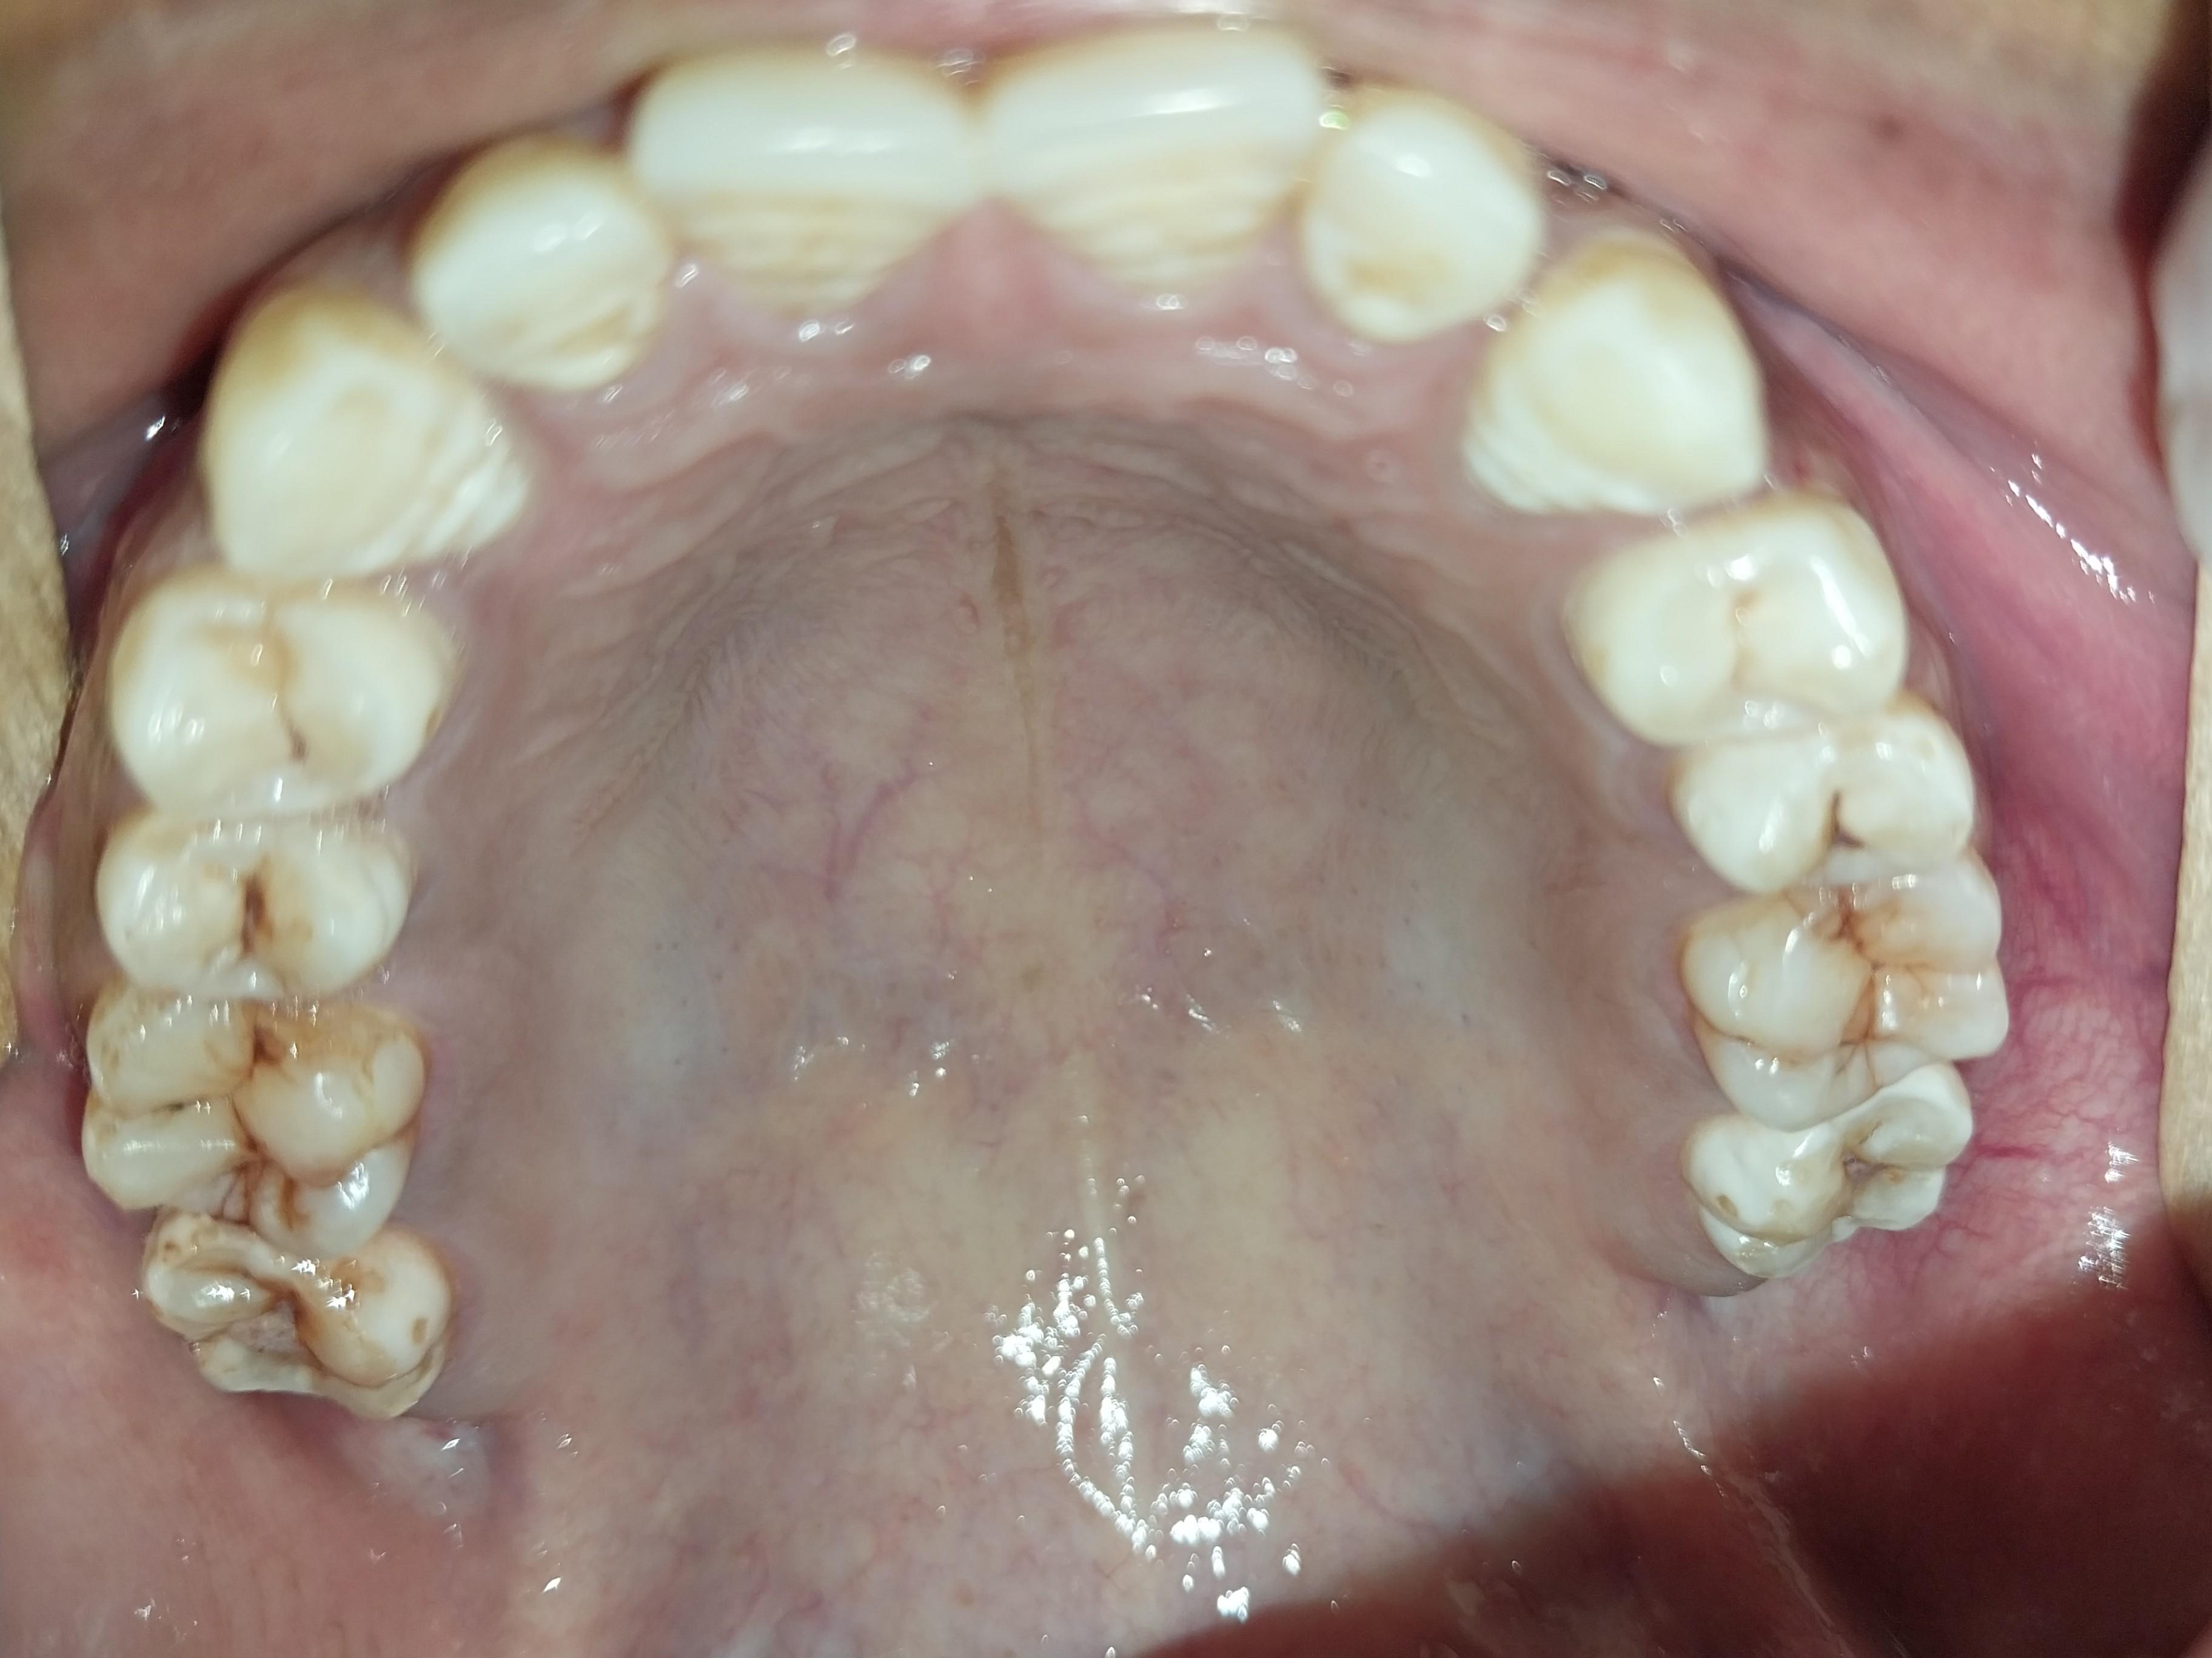D: (84, 990, 415, 1259), (1683, 864, 2013, 1129), (115, 583, 441, 826), (127, 1213, 453, 1435), (112, 805, 424, 1005), (1698, 1083, 1986, 1279), (1663, 739, 1992, 904)
